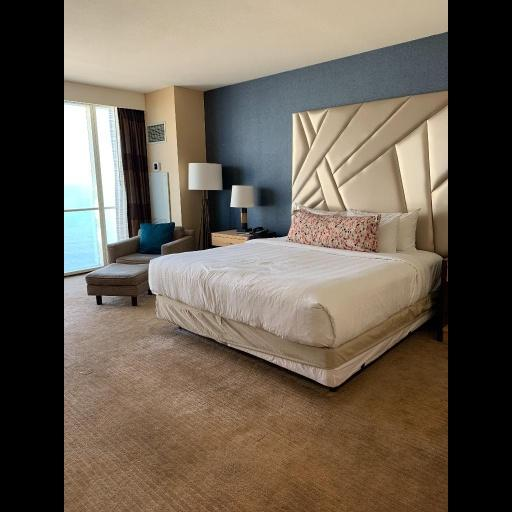chair: (107, 217, 199, 262)
clean_bed: (153, 92, 449, 388)
clean_floor: (62, 275, 447, 511)
lamp: (184, 162, 225, 230), (227, 185, 255, 232)
organised_pillow: (292, 205, 428, 253)
